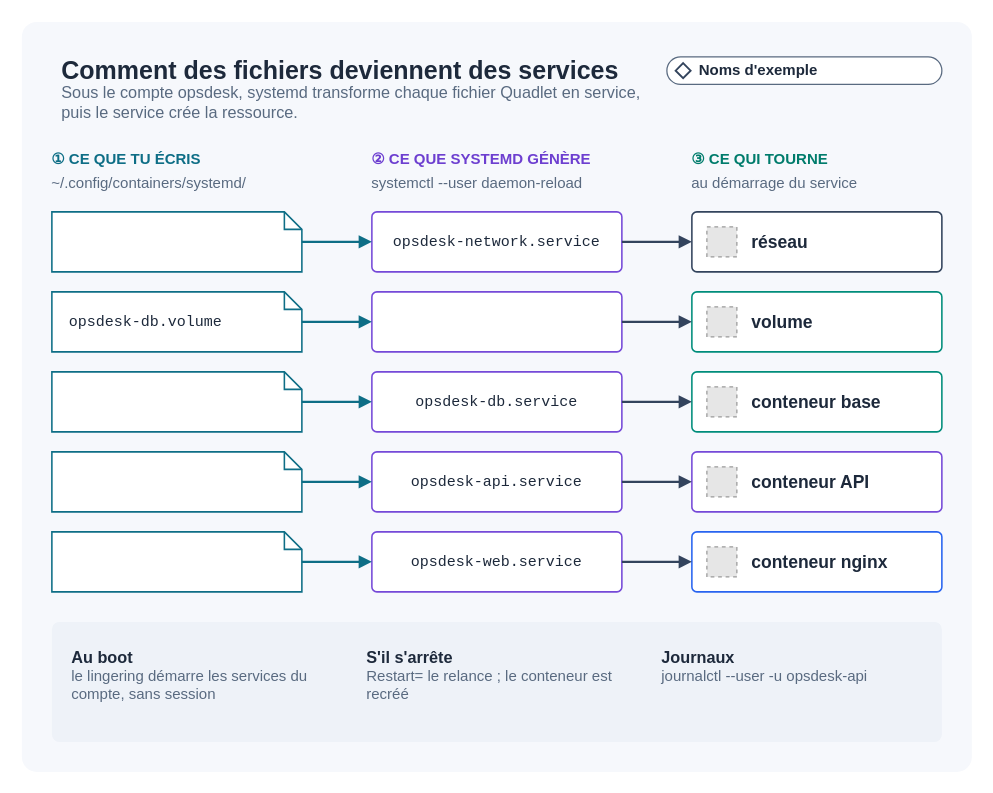
This 993x793 diagram has some shape labels left out. Grey dashed boxes stand in for pictures. The centre of each missing label's shape, as x and y in pixels:
opsdesk-api.container: (176,481)
opsdesk-db-volume.service: (496,321)
opsdesk-db.container: (176,401)
opsdesk-web.container: (176,561)
opsdesk.network: (176,241)
